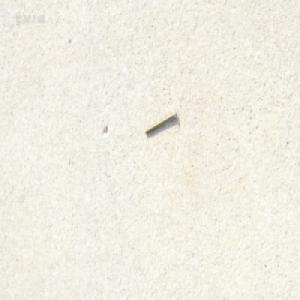Bolt: (144, 109, 177, 135)
